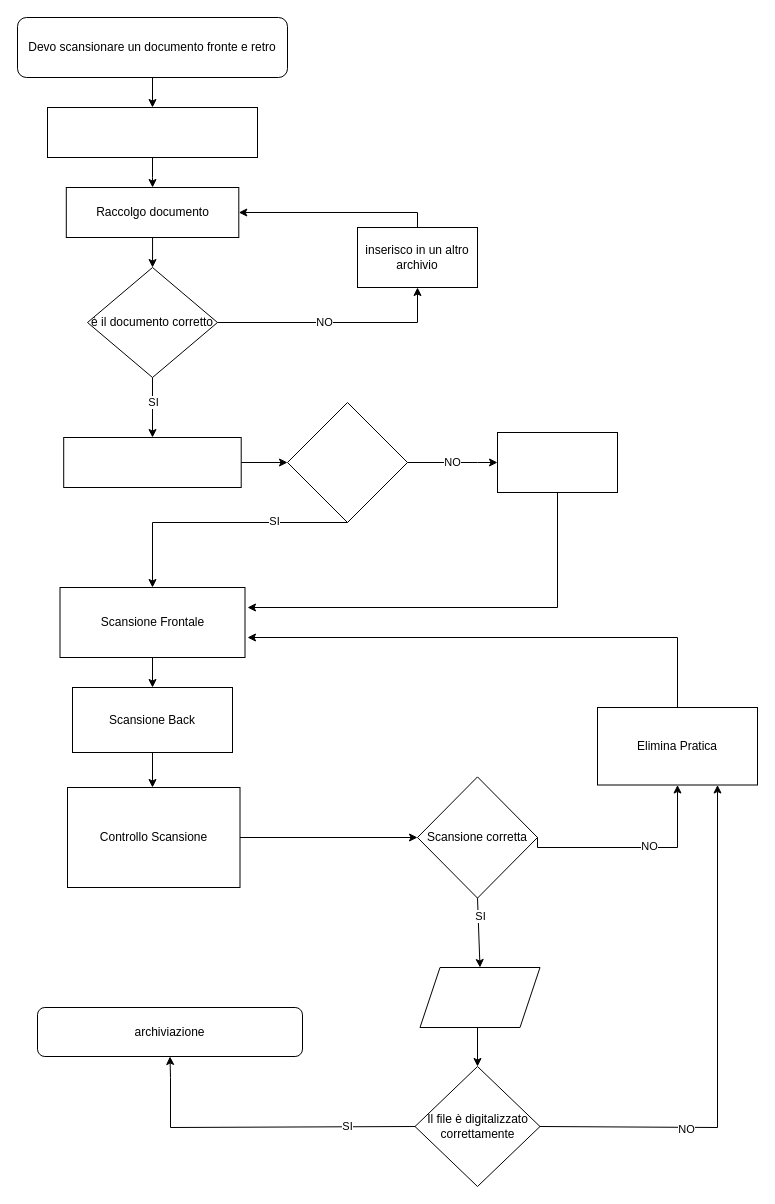
Image size: 775x1204. Some labels were removed from this diagram. The shapes that lost their labels are listed below. From the top down, each one's centre as x and y in pixels, then its label:
the point at 152,132: Ricerca della pratica nel archivio
the point at 152,462: Mi dirigo verso la fotocopiatrice
the point at 347,462: La fotocopiatrice funziona?
the point at 557,462: risolvo i problemi
the point at 479,997: Digitalizzo Documento
